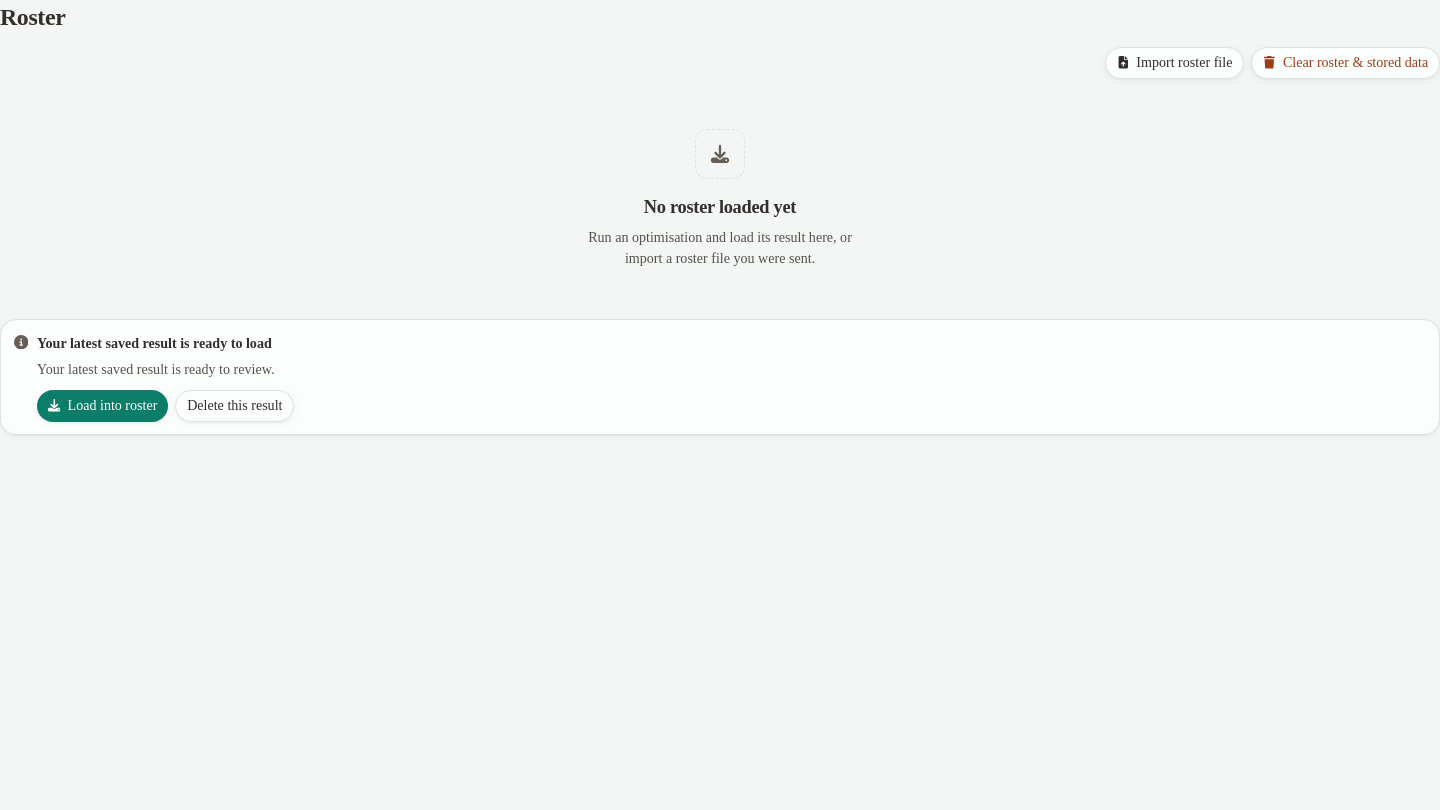
Scenario: RosterSection — keyed dismissal › clears the candidate from view once the dismissal succeeds
Click the button with test id "roster-candidate-dismiss" at [235, 406], box x1=175 y1=390 x2=294 y2=422
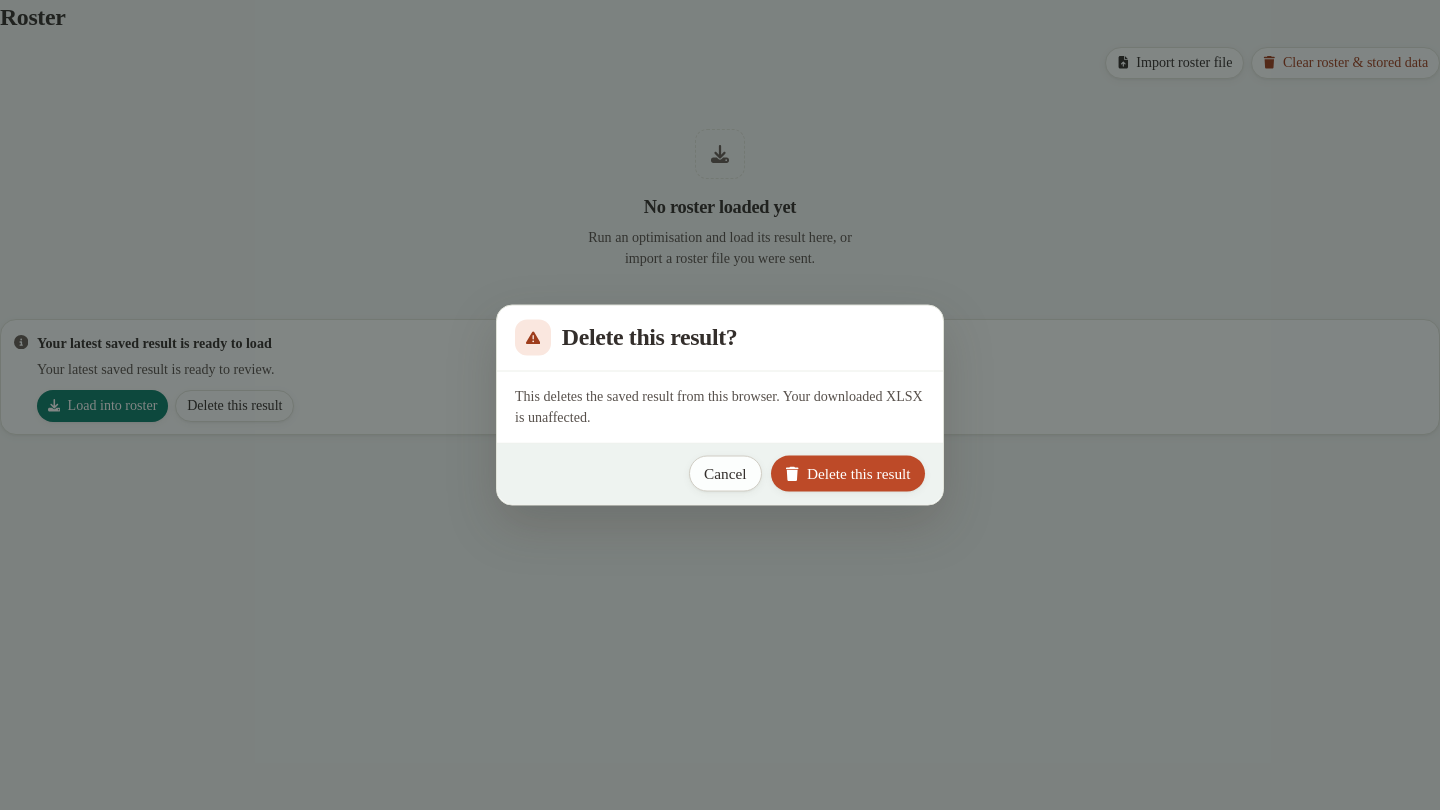
Now the dialog with test id "confirm-dialog" is shown, box x1=496 y1=304 x2=944 y2=506
Click the button with test id "confirm-dialog-confirm" at [848, 474], box x1=771 y1=456 x2=925 y2=492
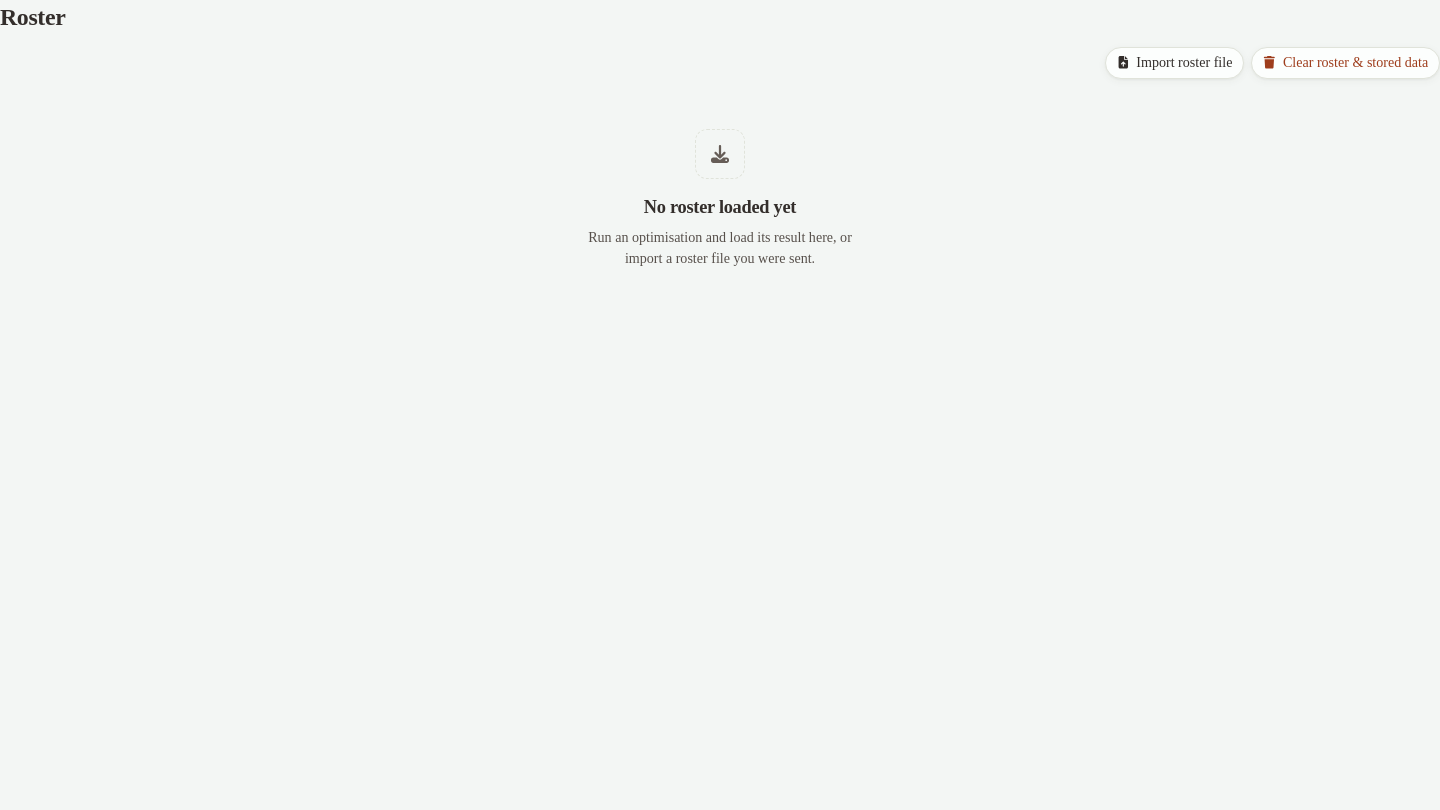
Now the element with test id "roster-candidate-available" is gone
